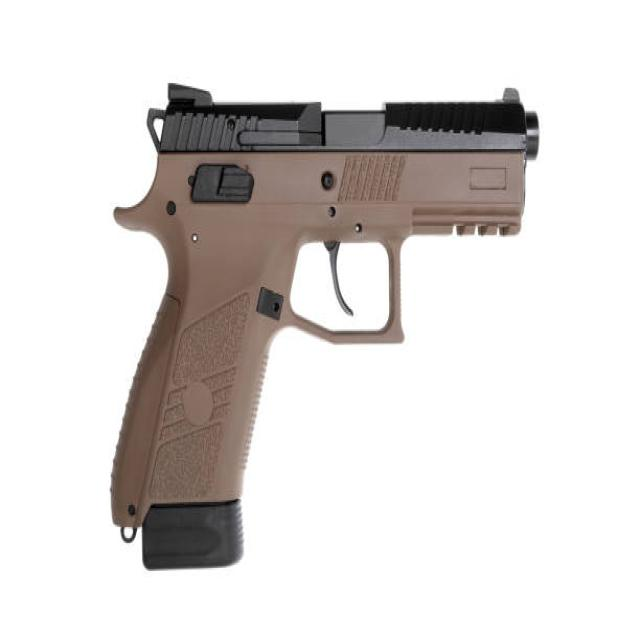pistol: (107, 72, 551, 588)
